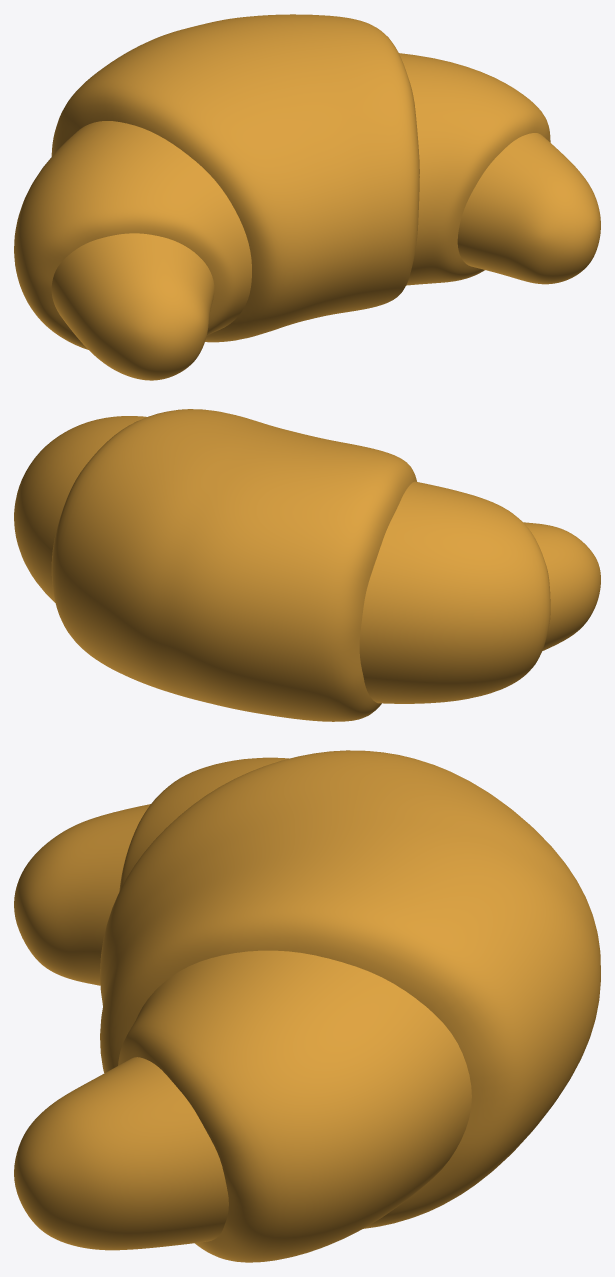
File: croissant.fbx
3 views of the same model, one above another, from view 1: azimuth 30°, elevation 25°; view 2: azimuth 150°, elevation 25°; view 3: azimuth 270°, elevation 25° (orthographic). The views are drawn at different scales.
Visible parts, largest first — view 1: croissant; view 2: croissant; view 3: croissant.
Boxes of the visible parts, <box> form: croissant: <box>14,14,600,380</box>; croissant: <box>14,409,600,721</box>; croissant: <box>14,750,600,1262</box>.
Size of the model in its own units: 0.6778 by 0.315 by 0.4793.
